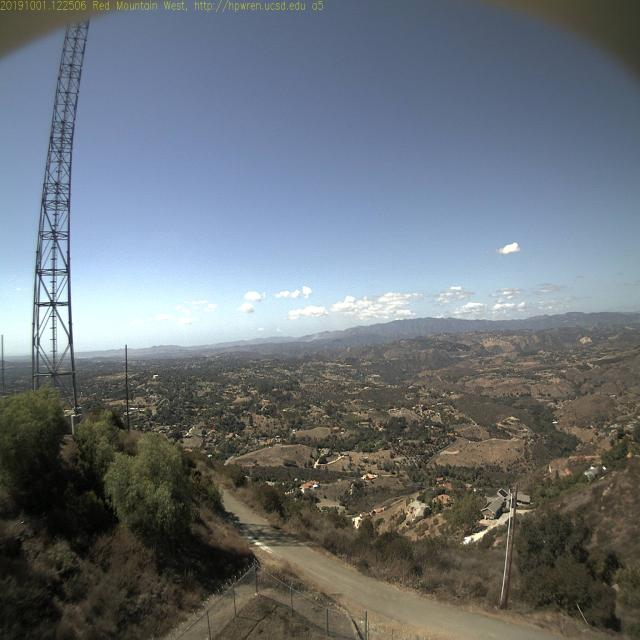smoke: (299, 332, 325, 346)
